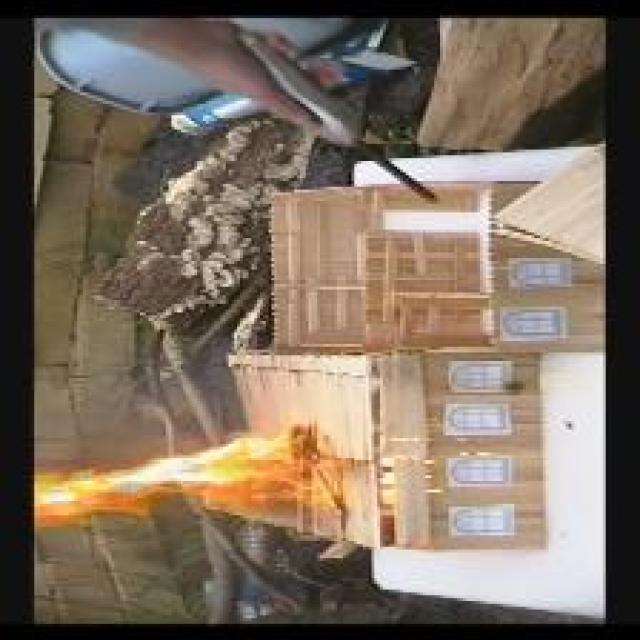Fire: (35, 436, 342, 528)
